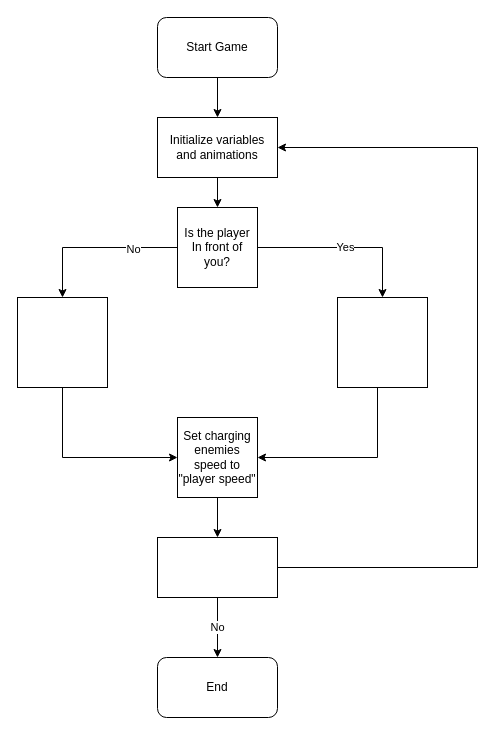
Image size: 503x735. Some labels were removed from this diagram. The box of each missing label's shape, as (x1, y1, x2, y2) in pixels:
Increase variable "player speed" from 0.0 to 1.7, set animation to run: (336, 296, 428, 388)
Is game still running: (156, 536, 278, 598)
Keep variable "player speed" at 0 and set animation to walk: (16, 296, 108, 388)
